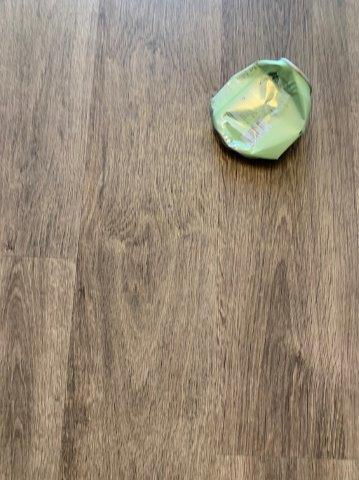kaleng: (212, 58, 311, 158)
